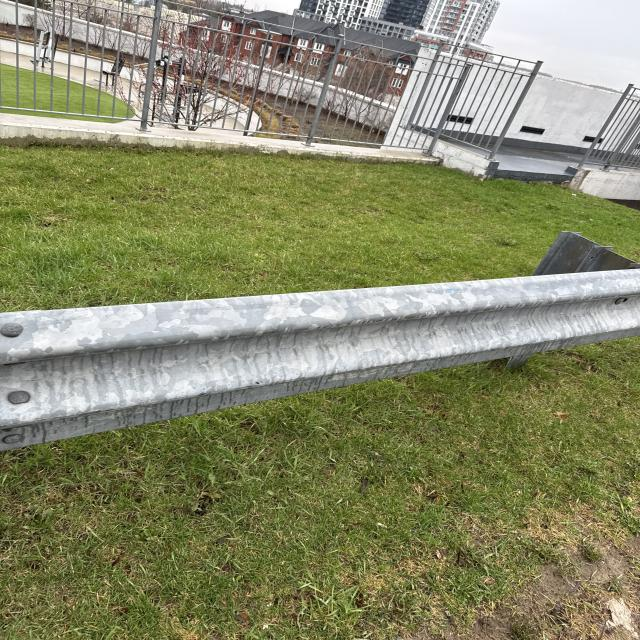Guard rail: (24, 252, 634, 436)
